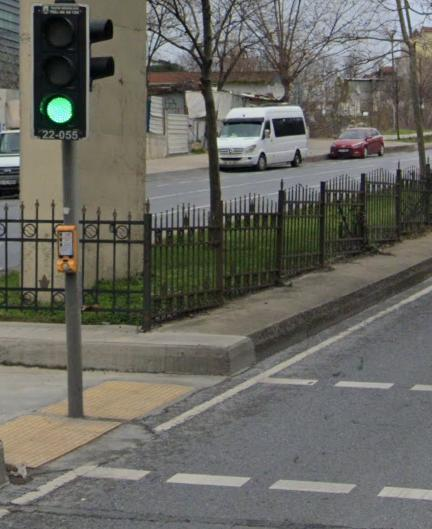greenlight: (32, 5, 85, 139)
